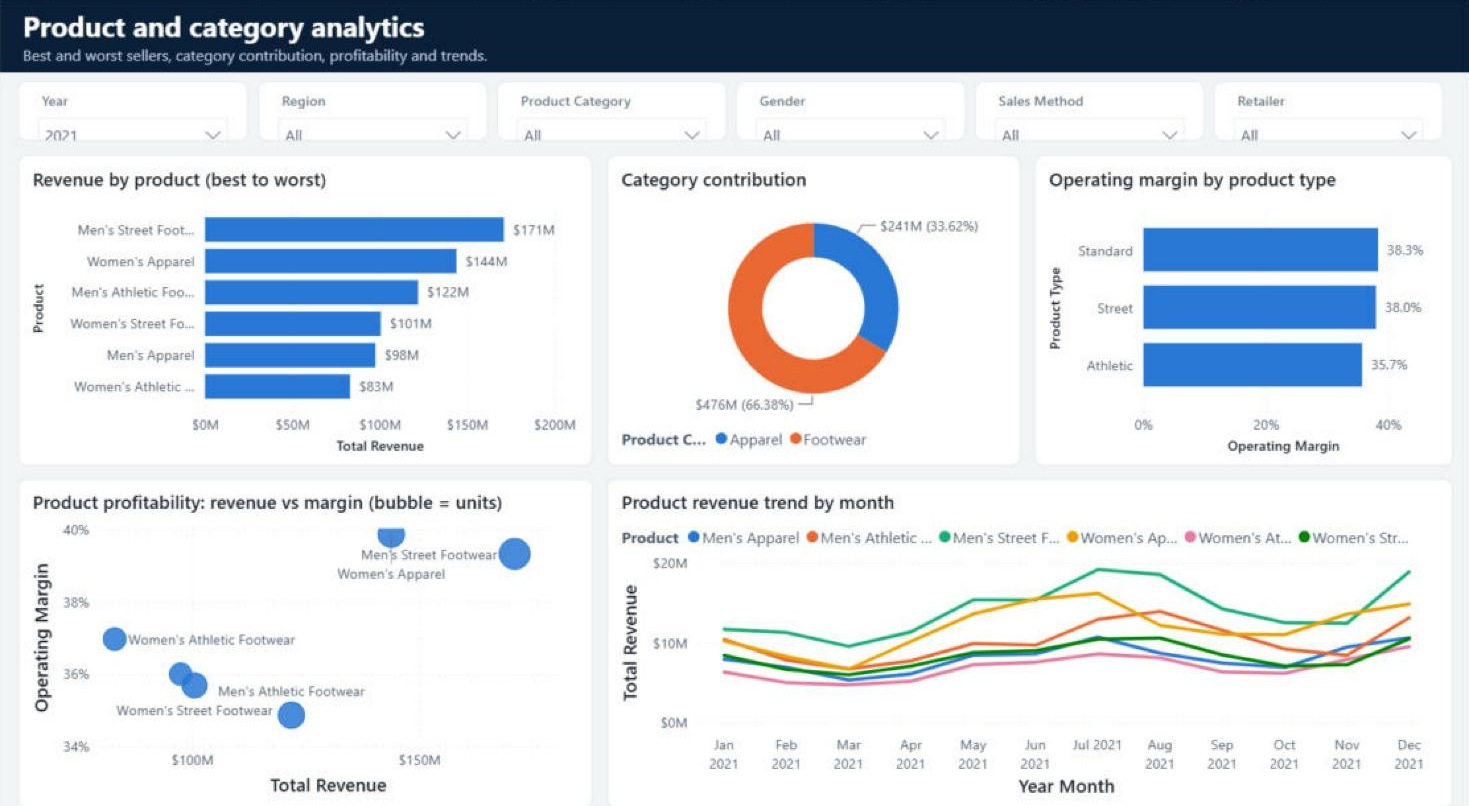

The dashboard page shown, as its layout file describes it:
{"tool":"powerbi","page":{"name":"Product Analytics","canvas":[1280,720],"ordinal":2},"visuals":[{"type":"textbox","box":[0,0,1280,64],"z":1000},{"type":"slicer","fields":{"Values":["Calendar.Year"]},"box":[16,72,200,52],"z":2000},{"type":"slicer","fields":{"Values":["Geography.Region"]},"box":[224,72,200,52],"z":3000},{"type":"slicer","fields":{"Values":["Product.Product Category"]},"box":[432,72,200,52],"z":4000},{"type":"slicer","fields":{"Values":["Product.Gender"]},"box":[640,72,200,52],"z":5000},{"type":"slicer","fields":{"Values":["Sales Method.Sales Method"]},"box":[848,72,200,52],"z":6000},{"type":"slicer","fields":{"Values":["Retailer.Retailer"]},"box":[1056,72,200,52],"z":7000},{"type":"clusteredBarChart","title":"Revenue by product (best to worst)","fields":{"Category":["Product.Product"],"Y":["_Measures.Total Revenue"]},"box":[16,136,500,270],"z":8000},{"type":"donutChart","title":"Category contribution","fields":{"Category":["Product.Product Category"],"Y":["_Measures.Total Revenue"]},"box":[528,136,360,270],"z":9000},{"type":"clusteredBarChart","title":"Operating margin by product type","fields":{"Category":["Product.Product Type"],"Y":["_Measures.Operating Margin"]},"box":[900,136,364,270],"z":10000},{"type":"scatterChart","title":"Product profitability: revenue vs margin (bubble = units)","fields":{"Category":["Product.Product"],"Size":["_Measures.Units Sold"],"X":["_Measures.Total Revenue"],"Y":["_Measures.Operating Margin"]},"box":[16,418,500,286],"z":11000},{"type":"lineChart","title":"Product revenue trend by month","fields":{"Category":["Calendar.Year Month"],"Series":["Product.Product"],"Y":["_Measures.Total Revenue"]},"box":[528,418,736,286],"z":12000}]}

Visuals, with their boxes in screenshot pixels (x1, y1, x2, y2), scaled from the page's 1280x720 canvas onto the 1469x806 screenshot:
textbox: <region>0, 0, 1468, 72</region>
slicer - Calendar.Year: <region>18, 81, 248, 139</region>
slicer - Geography.Region: <region>257, 81, 487, 139</region>
slicer - Product.Product Category: <region>496, 81, 725, 139</region>
slicer - Product.Gender: <region>734, 81, 964, 139</region>
slicer - Sales Method.Sales Method: <region>973, 81, 1203, 139</region>
slicer - Retailer.Retailer: <region>1212, 81, 1441, 139</region>
"Revenue by product (best to worst)" clusteredBarChart: <region>18, 152, 592, 454</region>
"Category contribution" donutChart: <region>606, 152, 1019, 454</region>
"Operating margin by product type" clusteredBarChart: <region>1033, 152, 1451, 454</region>
"Product profitability: revenue vs margin (bubble = units)" scatterChart: <region>18, 468, 592, 788</region>
"Product revenue trend by month" lineChart: <region>606, 468, 1451, 788</region>
